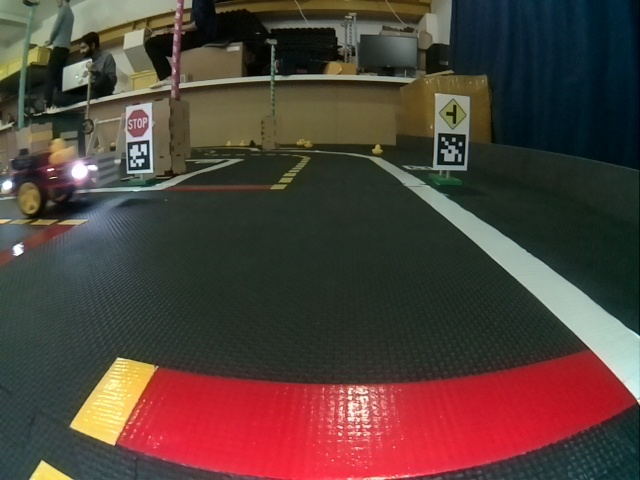Duckie: (48, 139, 76, 164), (373, 145, 383, 155), (238, 140, 248, 150), (304, 141, 313, 148), (297, 138, 305, 145)
Duckiebot: (11, 154, 89, 216)
Intersection sign: (436, 97, 469, 130)
QR code: (435, 132, 467, 167), (126, 139, 150, 172)
Stop sign: (125, 106, 151, 138)
